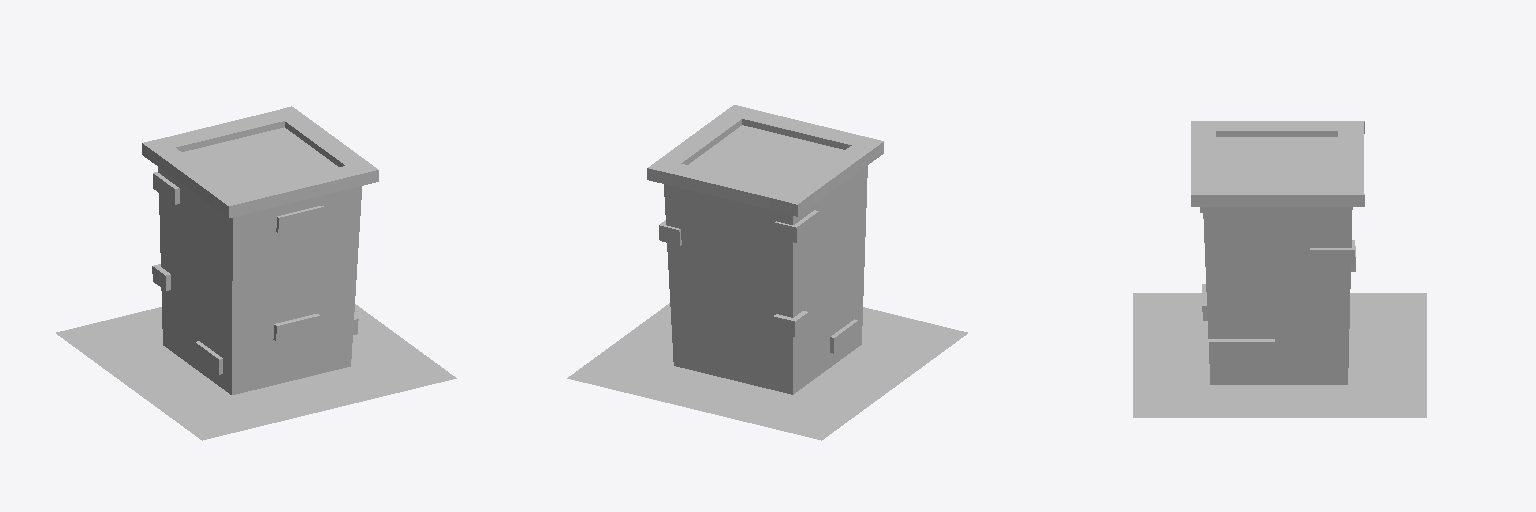
Rendered from building3.obj.
The picture shows the model from 3 angles: view 1: azimuth 30°, elevation 25°; view 2: azimuth 150°, elevation 25°; view 3: azimuth 270°, elevation 25°; orthographic projection.
Visible parts, largest first — view 1: building3_Cube.003; view 2: building3_Cube.003; view 3: building3_Cube.003.
Part boxes in pixels (x1,y1,x2,y2): building3_Cube.003: (56, 106, 456, 440); building3_Cube.003: (567, 105, 967, 440); building3_Cube.003: (1133, 121, 1426, 417).
Size of the model in its own units: 1.55 by 1.15 by 1.55.